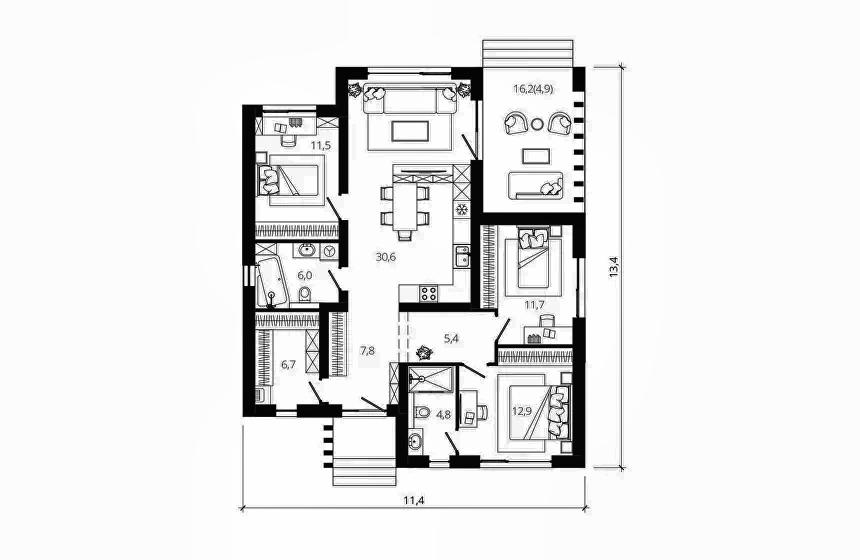door: (325, 192, 350, 221), (460, 360, 491, 380), (327, 266, 349, 292), (492, 316, 513, 343), (461, 133, 480, 161), (358, 395, 386, 414), (308, 380, 326, 403), (444, 431, 461, 455)
window: (366, 65, 454, 81), (477, 454, 553, 470), (571, 255, 587, 320), (261, 102, 318, 119), (239, 263, 257, 288), (274, 403, 300, 419), (427, 454, 450, 470)
